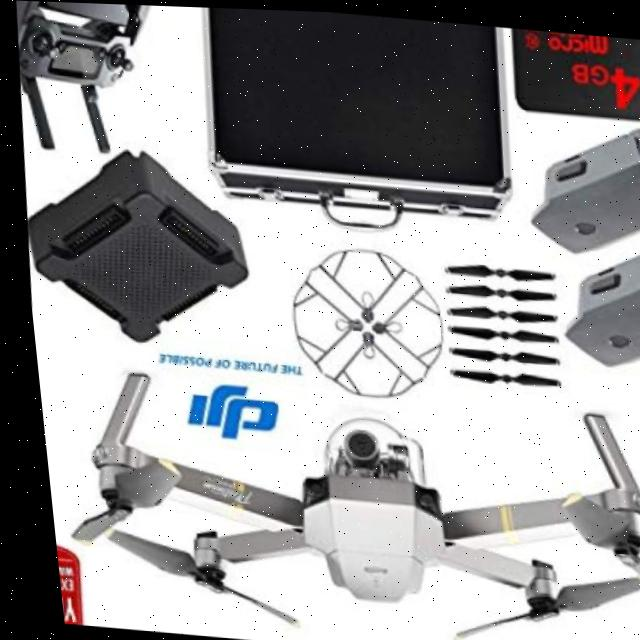drones: (49, 359, 640, 640)
